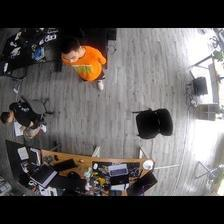normal: (59, 36, 109, 93), (1, 97, 52, 143)
